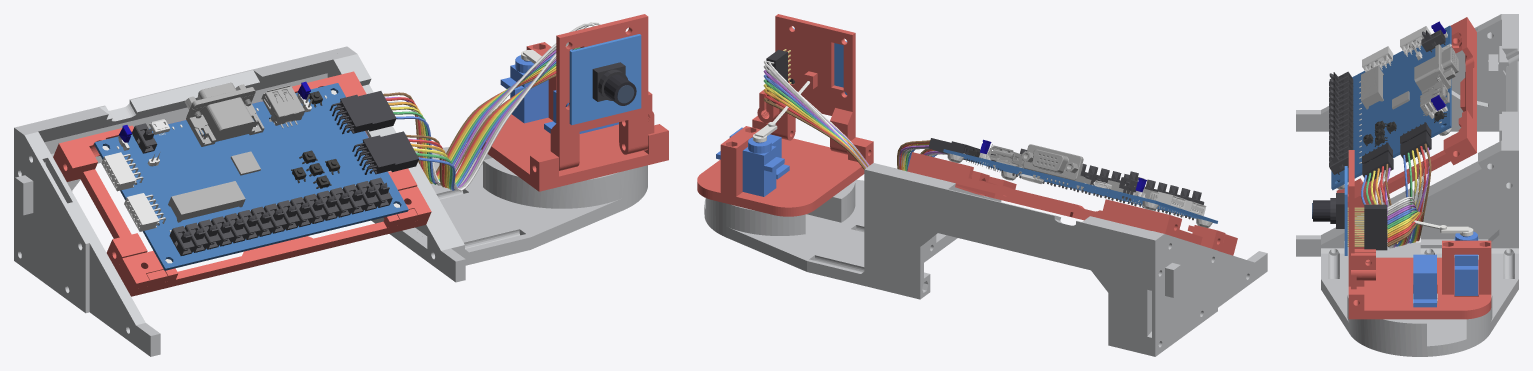
Rendered from fpga-object-tracker.glb.
3 renders of one model, left to right at view 1: azimuth 30°, elevation 25°; view 2: azimuth 150°, elevation 25°; view 3: azimuth 270°, elevation 25°, orthographic. The views are drawn at different scales.
Visible parts, largest first — view 1: basys3_0, pantilt_base_mount, fpga_base_mount, fpga_combined_mount_left_cover, fgpa_combined_mount_back, pantilt_pan_base, pantilt_tilt_base, fpga_combined_mount_left, ov7670_pcb, basys3_100, fpga_combined_mount_right, basys3_95 (+18 smaller); view 2: fgpa_combined_mount_back, pantilt_base_mount, pantilt_pan_base, pantilt_tilt_base, fpga_base_mount, fpga_combined_mount_left_cover, fpga_combined_mount_left, tilt_servo_body, fpga_combined_mount_right, basys3_0, basys3_100, pantilt_pan_base_servo_clamp (+3 smaller); view 3: pantilt_base_mount, basys3_0, pantilt_pan_base, fpga_combined_mount_right, fpga_combined_mount_left, fpga_base_mount, fgpa_combined_mount_back, pantilt_pan_base_servo_clamp, basys3_100, pan_servo_body, tilt_servo_body, ov7670_jumper_housing (+32 smaller).
Boxes of the visible parts, <box> form: basys3_0: <box>94,83,408,270</box>; pantilt_base_mount: <box>333,46,647,265</box>; fpga_base_mount: <box>53,71,428,296</box>; fpga_combined_mount_left_cover: <box>14,126,89,313</box>; fgpa_combined_mount_back: <box>28,52,332,191</box>; pantilt_pan_base: <box>481,114,668,191</box>; pantilt_tilt_base: <box>550,14,648,170</box>; fpga_combined_mount_left: <box>18,124,160,356</box>; ov7670_pcb: <box>569,34,641,125</box>; basys3_100: <box>185,82,264,146</box>; fpga_combined_mount_right: <box>323,50,465,282</box>; basys3_95: <box>168,181,245,222</box>; fgpa_combined_mount_back: <box>885,168,1151,353</box>; pantilt_base_mount: <box>704,163,937,288</box>; pantilt_pan_base: <box>697,115,873,216</box>; pantilt_tilt_base: <box>770,14,855,154</box>; fpga_base_mount: <box>907,152,1235,255</box>; fpga_combined_mount_left_cover: <box>1152,233,1217,356</box>; fpga_combined_mount_left: <box>1143,231,1267,355</box>; tilt_servo_body: <box>716,137,784,196</box>; fpga_combined_mount_right: <box>876,166,1001,290</box>; basys3_0: <box>943,149,1217,223</box>; basys3_100: <box>1021,144,1091,189</box>; pantilt_pan_base_servo_clamp: <box>720,126,760,196</box>; pantilt_base_mount: <box>1321,144,1518,356</box>; basys3_0: <box>1331,25,1451,190</box>; pantilt_pan_base: <box>1348,257,1491,319</box>; fpga_combined_mount_right: <box>1296,140,1518,256</box>; fpga_combined_mount_left: <box>1296,15,1518,131</box>; fpga_base_mount: <box>1341,17,1476,220</box>; fgpa_combined_mount_back: <box>1499,19,1518,141</box>; pantilt_pan_base_servo_clamp: <box>1442,240,1491,294</box>; basys3_100: <box>1414,44,1459,94</box>; pan_servo_body: <box>1413,254,1436,307</box>; tilt_servo_body: <box>1454,231,1478,295</box>; ov7670_jumper_housing: <box>1364,204,1387,250</box>.
Bounding box in the file's own units: 0.2874 × 0.0903 × 0.115.
